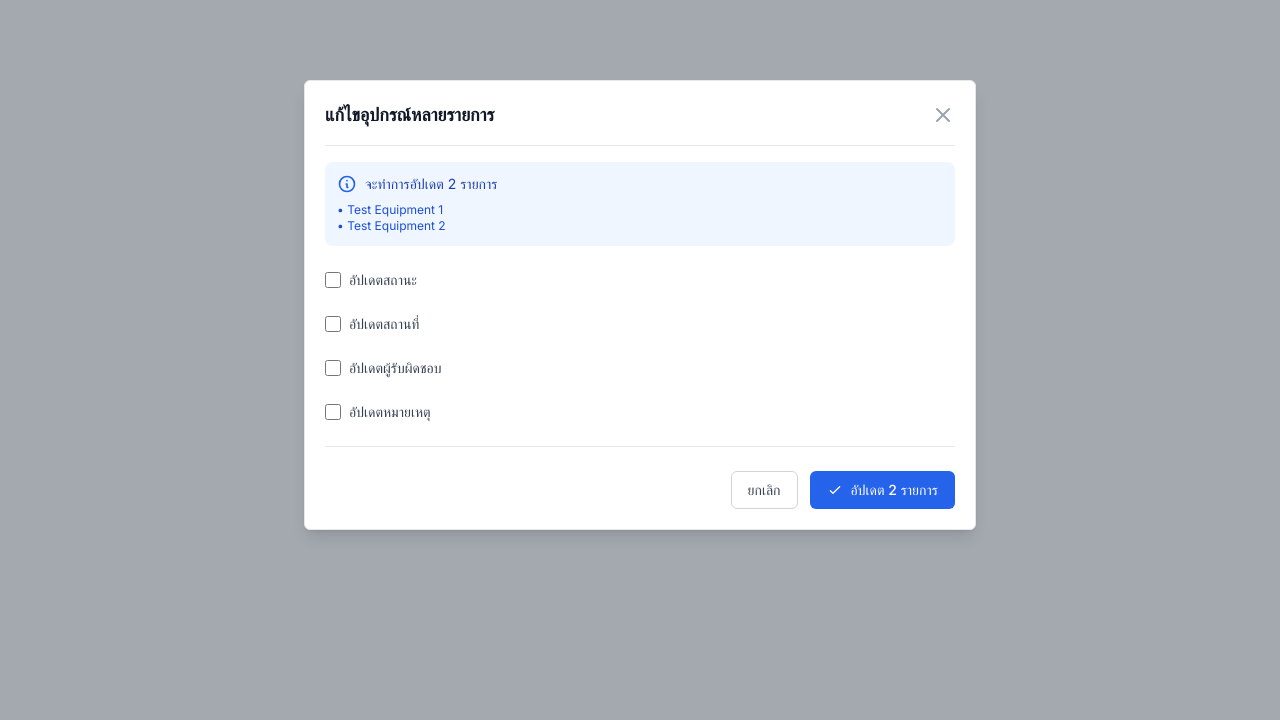
it: Bulk Operations › BulkEditModal › validates form before submission
Click the button "อัปเดต 2 รายการ" at (882, 490), box [810,471,955,509]
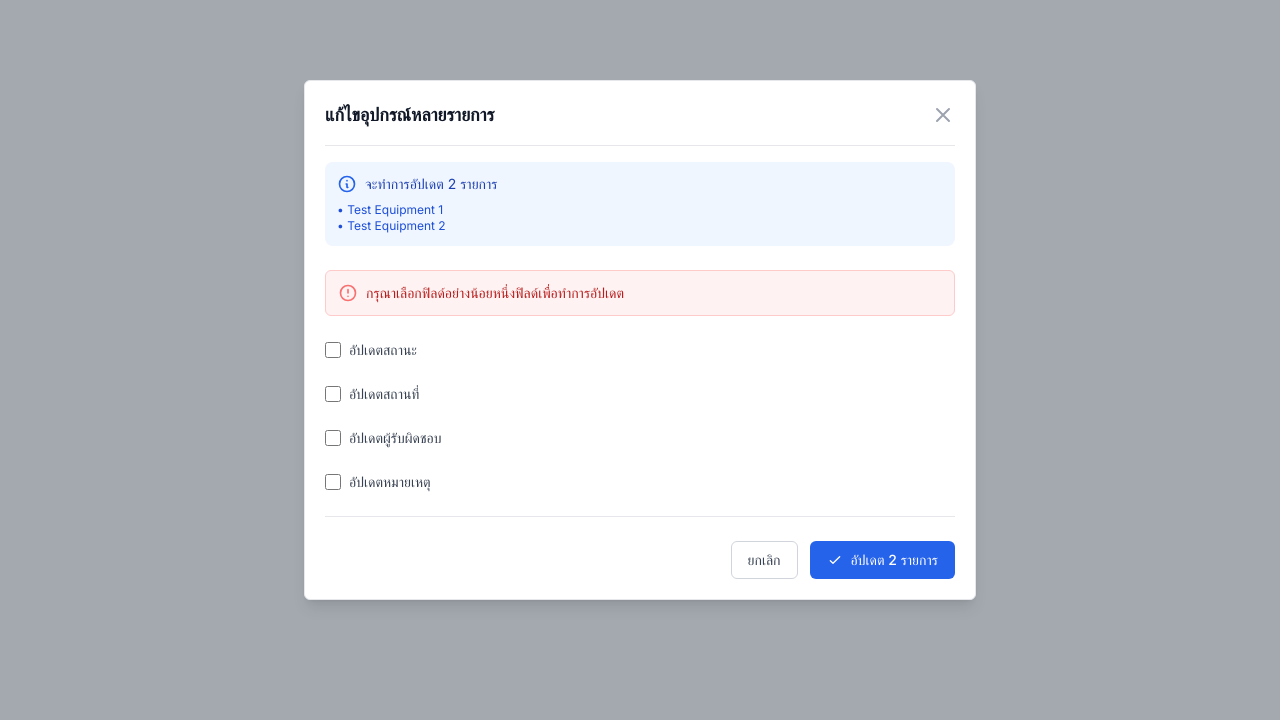
Now the text "กรุณาเลือกฟิลด์อย่างน้อยหนึ่งฟิลด์เพื่อทำการอัปเดต" is shown, box [366,283,624,303]
